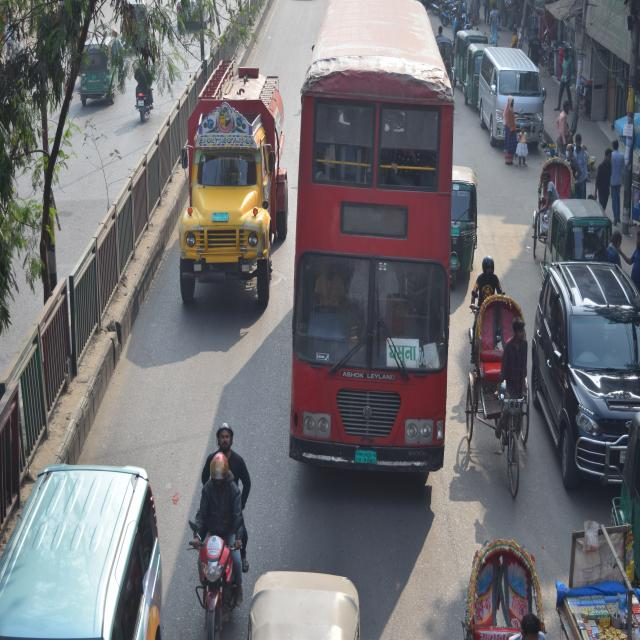bus: (292, 1, 454, 486), (477, 49, 551, 143)
car: (530, 235, 640, 482), (28, 469, 146, 640)
motorbike: (178, 419, 258, 624), (126, 42, 156, 120), (473, 259, 497, 315)
truck: (184, 59, 284, 305)
